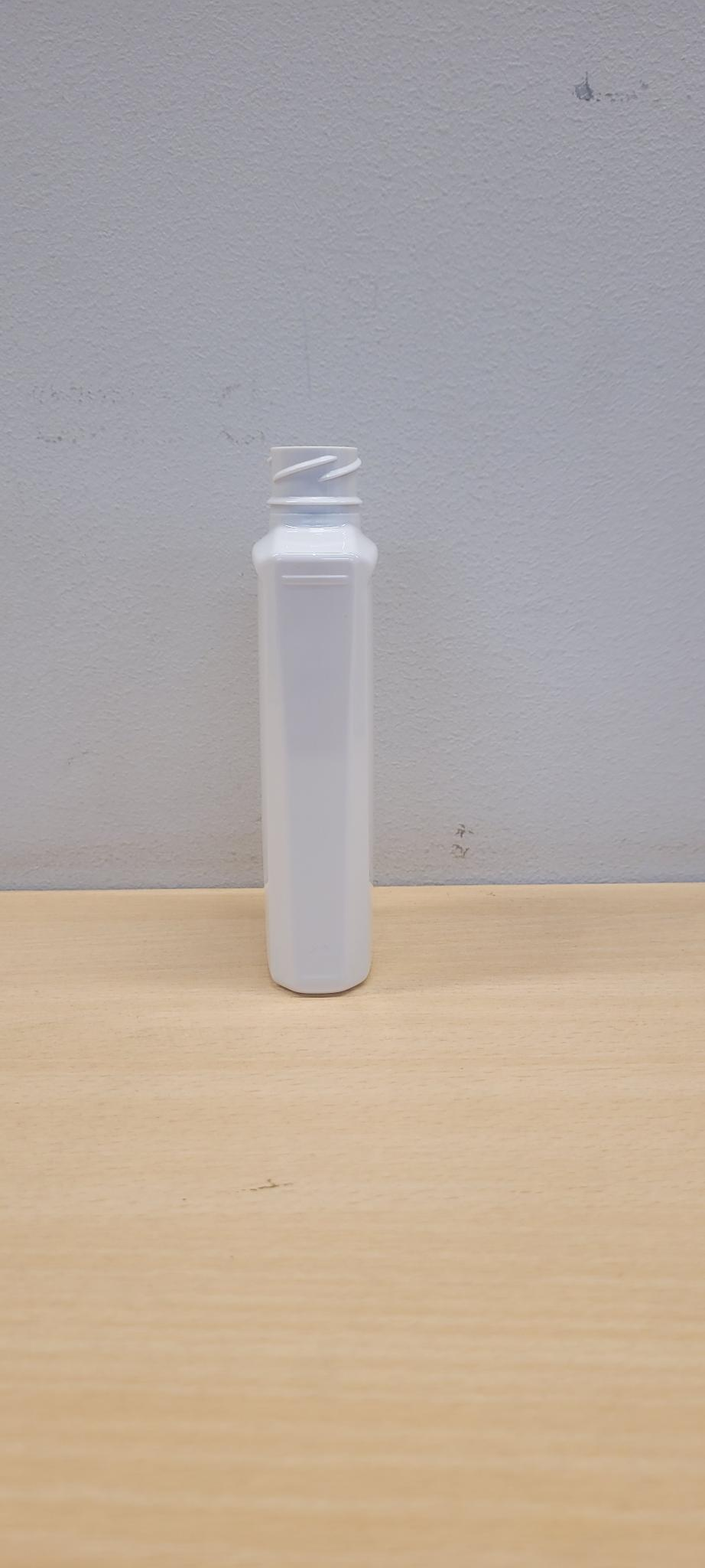bottle: (252, 443, 378, 994)
